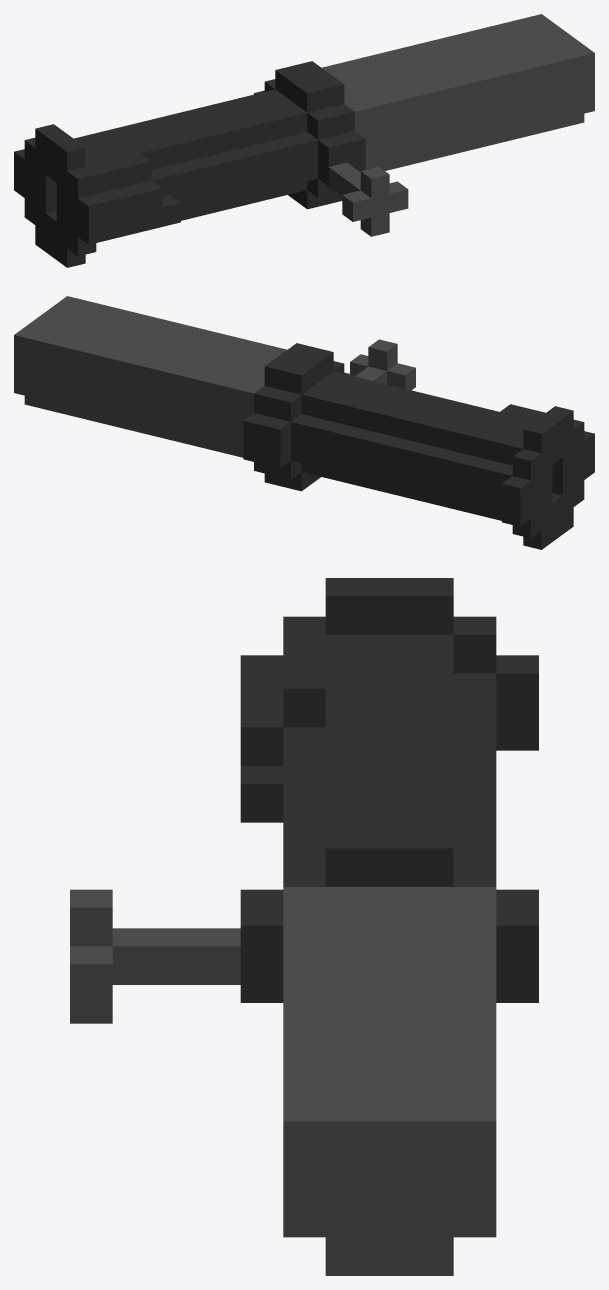
File: BoltMP40.fbx
The picture shows the model from 3 angles, top to bottom: view 1: azimuth 30°, elevation 25°; view 2: azimuth 150°, elevation 25°; view 3: azimuth 270°, elevation 25°; orthographic projection. The views are drawn at different scales.
Visible parts, largest first — view 1: BoltMP40.001; view 2: BoltMP40.001; view 3: BoltMP40.001.
Boxes of the visible parts, left/top/right/bottom form: BoltMP40.001: left=14, top=14, right=594, bottom=267; BoltMP40.001: left=14, top=296, right=594, bottom=549; BoltMP40.001: left=70, top=578, right=538, bottom=1275.
Bounding box in the file's own units: 2.8 × 0.6 × 1.1.
Materials: 1 (1 with a texture image).
